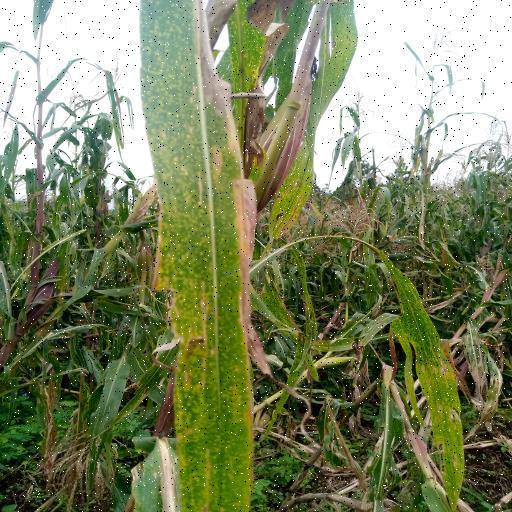Corn_Brown_Spots: (136, 1, 270, 504)
